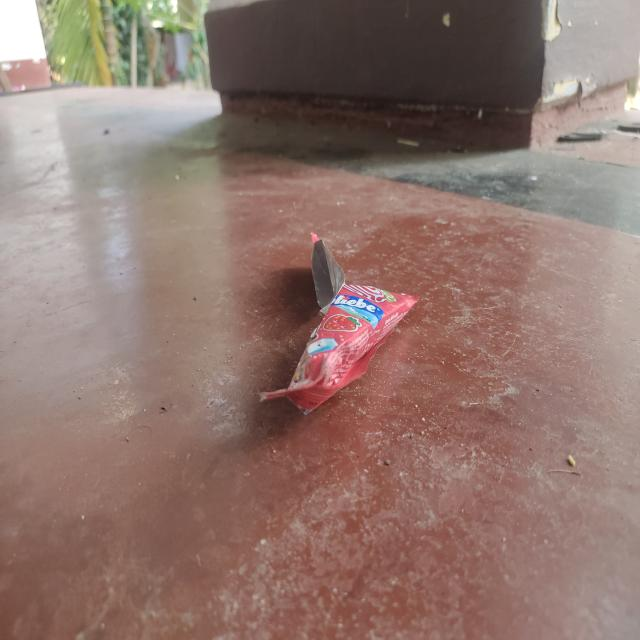plastic: (261, 235, 423, 420)
